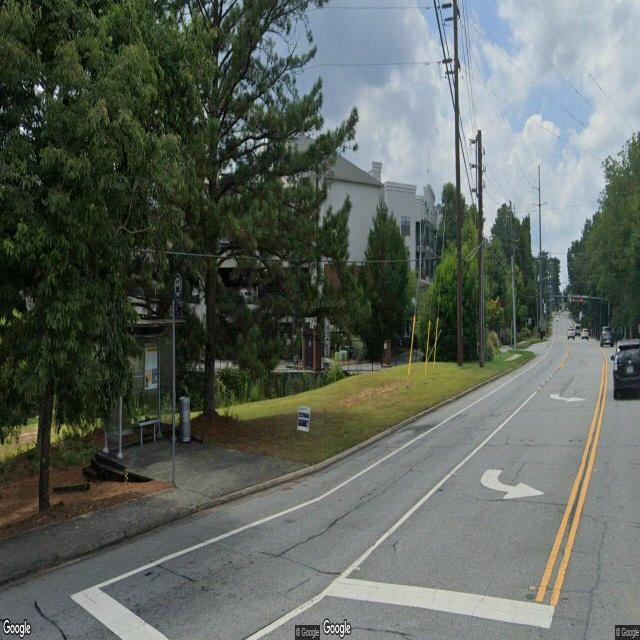seating: (135, 418, 160, 448)
shelter: (108, 322, 177, 461)
trash_can: (179, 394, 191, 442)
